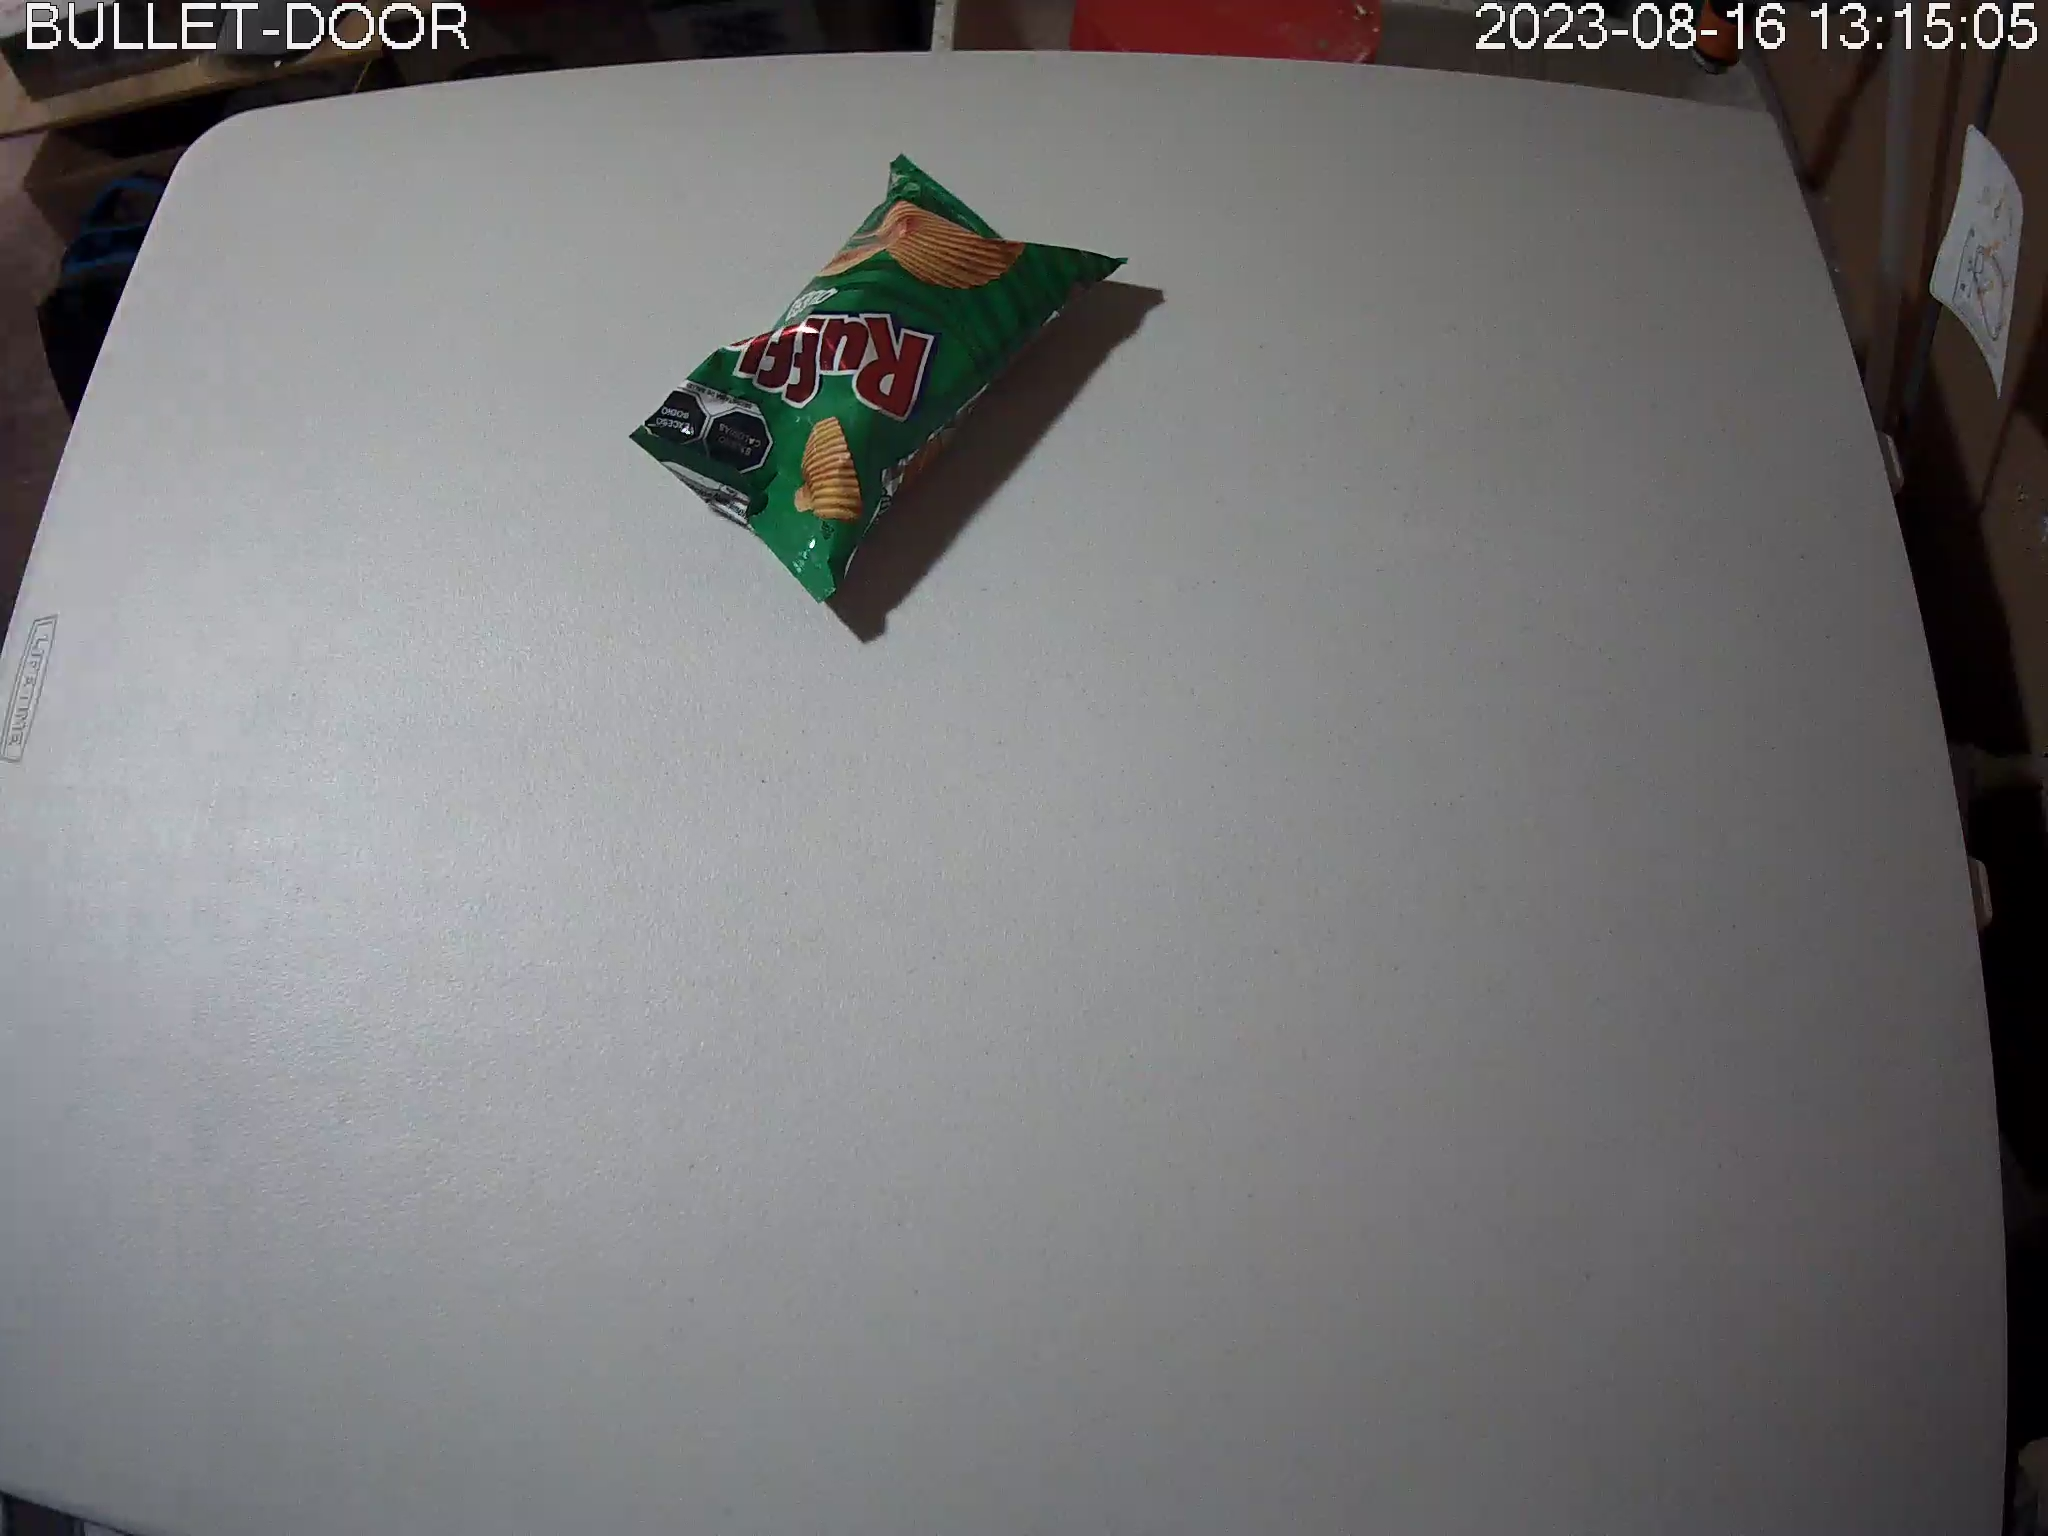RufflesQ_48_F: (631, 153, 1132, 602)
